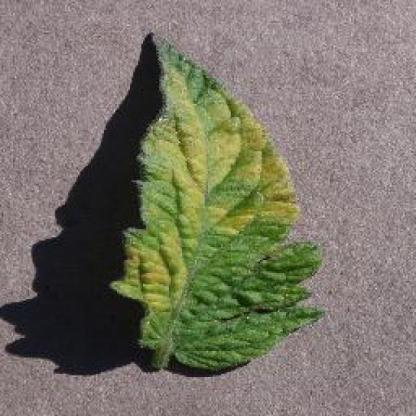Tomato_Leaf_Mold: (115, 41, 321, 370)
